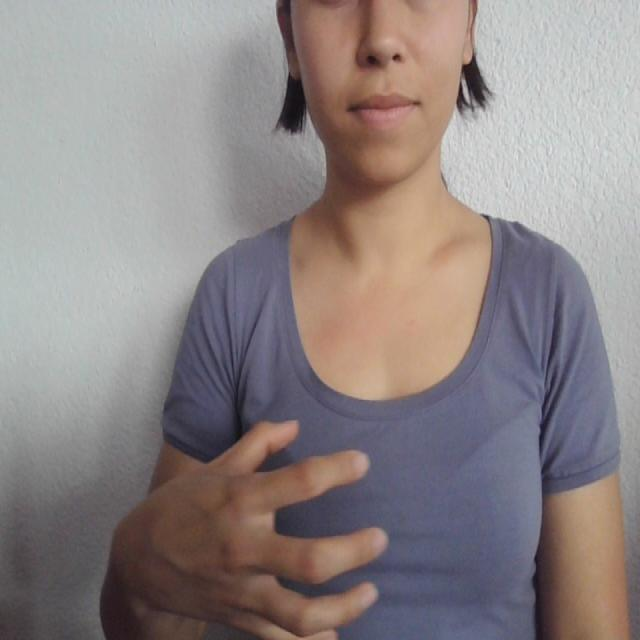Anne: (93, 393, 573, 640)
